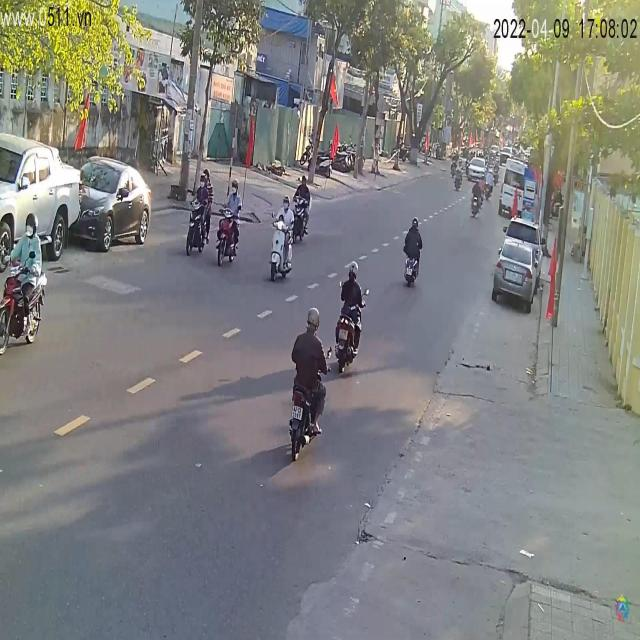car: (1, 132, 81, 266), (75, 157, 155, 253), (494, 231, 540, 314), (469, 159, 488, 179)
motorcycle: (286, 328, 336, 471), (0, 232, 46, 356), (334, 276, 368, 378), (269, 219, 295, 281), (214, 218, 241, 267), (404, 257, 420, 288)
